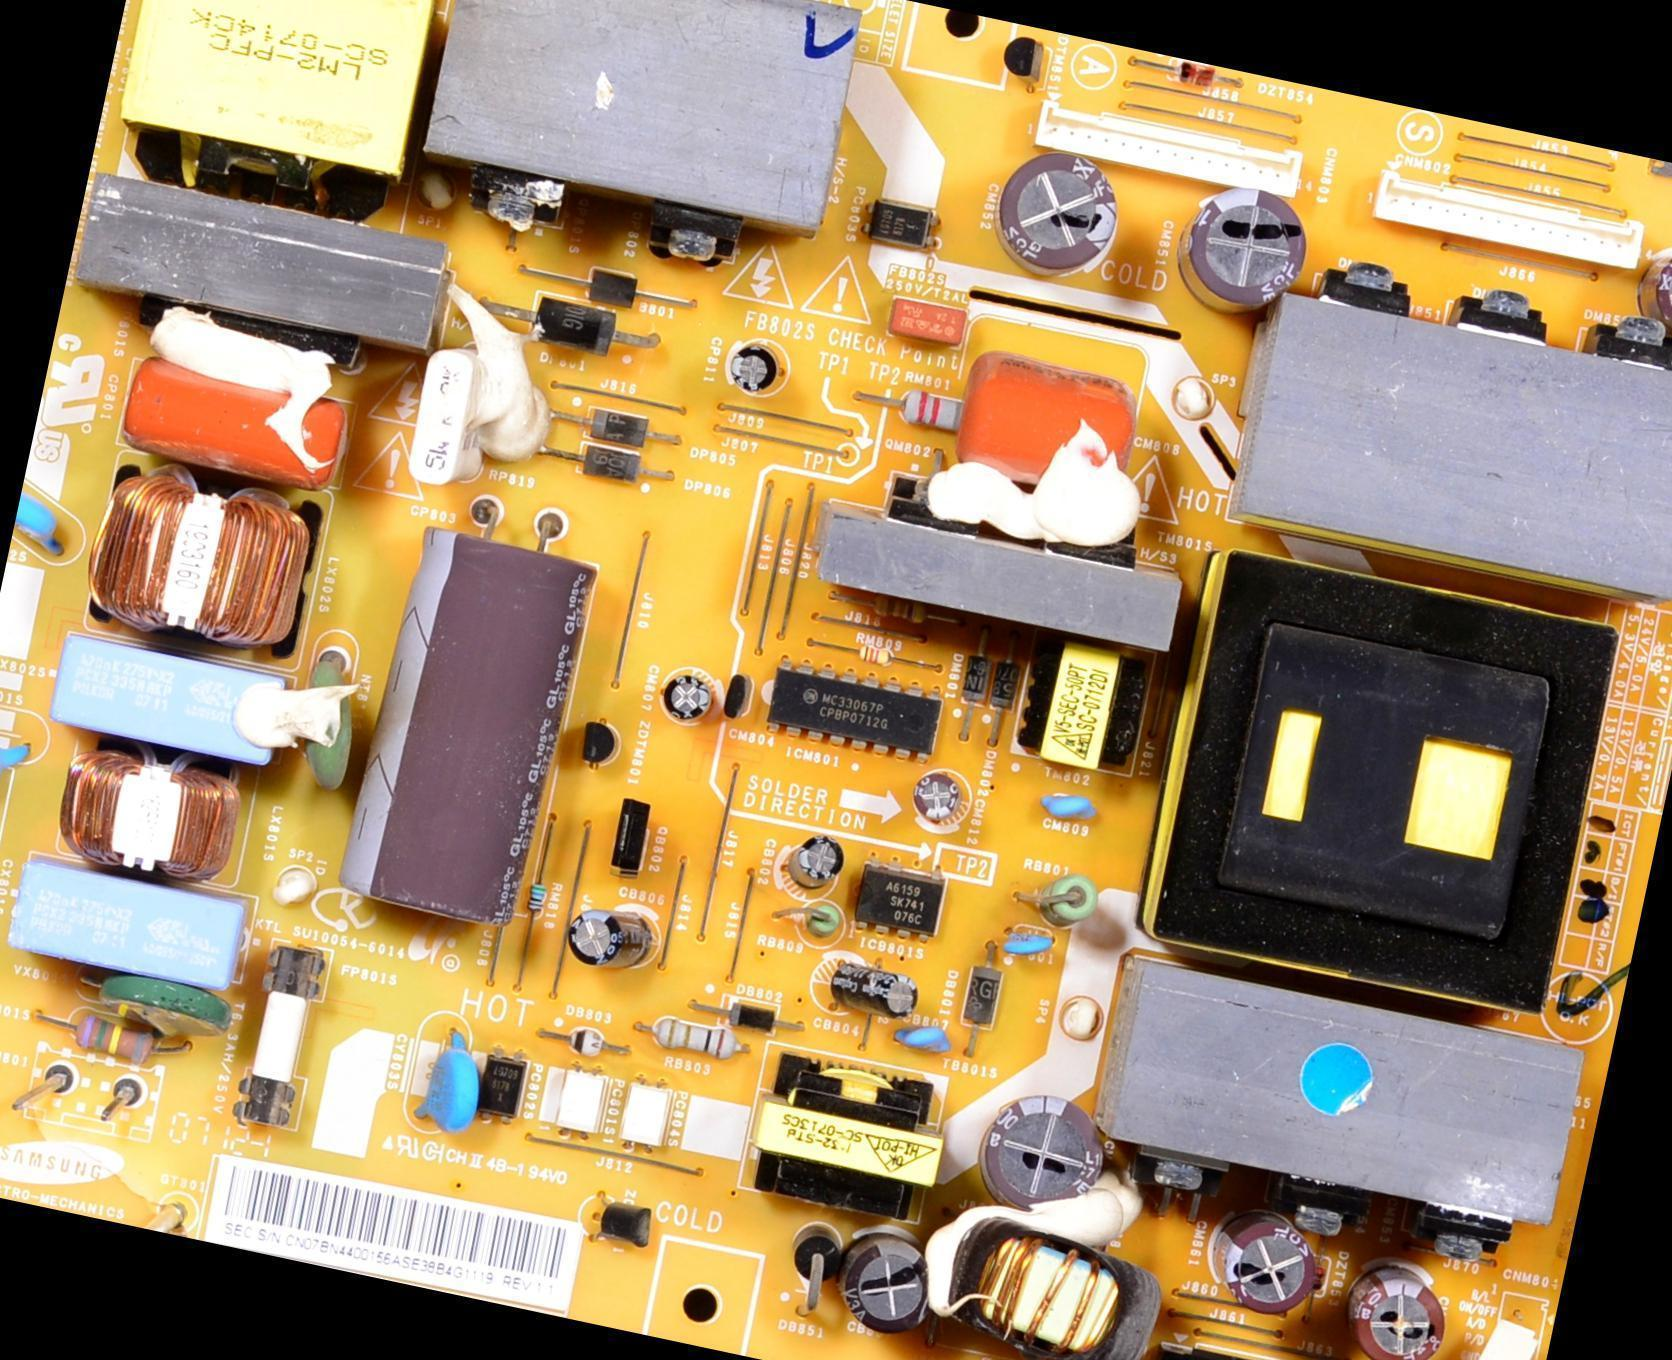Capacitor: (334, 516, 592, 937), (1173, 179, 1320, 324), (990, 140, 1127, 292), (972, 1088, 1120, 1222), (830, 1221, 948, 1346), (283, 649, 381, 796), (1217, 1208, 1328, 1325), (403, 1011, 495, 1142), (1345, 1264, 1457, 1359), (821, 949, 931, 1029), (562, 898, 661, 977), (7, 481, 80, 571), (654, 662, 723, 731), (0, 708, 34, 819), (722, 340, 782, 399), (787, 831, 845, 890), (1643, 236, 1671, 350), (1005, 917, 1059, 973), (912, 770, 965, 827)
Connector: (1374, 168, 1644, 272), (1033, 96, 1305, 196), (27, 1047, 160, 1140)
IC: (768, 652, 947, 766), (853, 855, 951, 941)
Inductor: (522, 294, 617, 363), (958, 963, 1008, 1034), (585, 405, 654, 449), (581, 438, 644, 480)
Resistor: (27, 998, 197, 1072), (845, 376, 989, 439), (632, 1007, 756, 1066), (802, 631, 948, 682), (1034, 865, 1104, 935)
